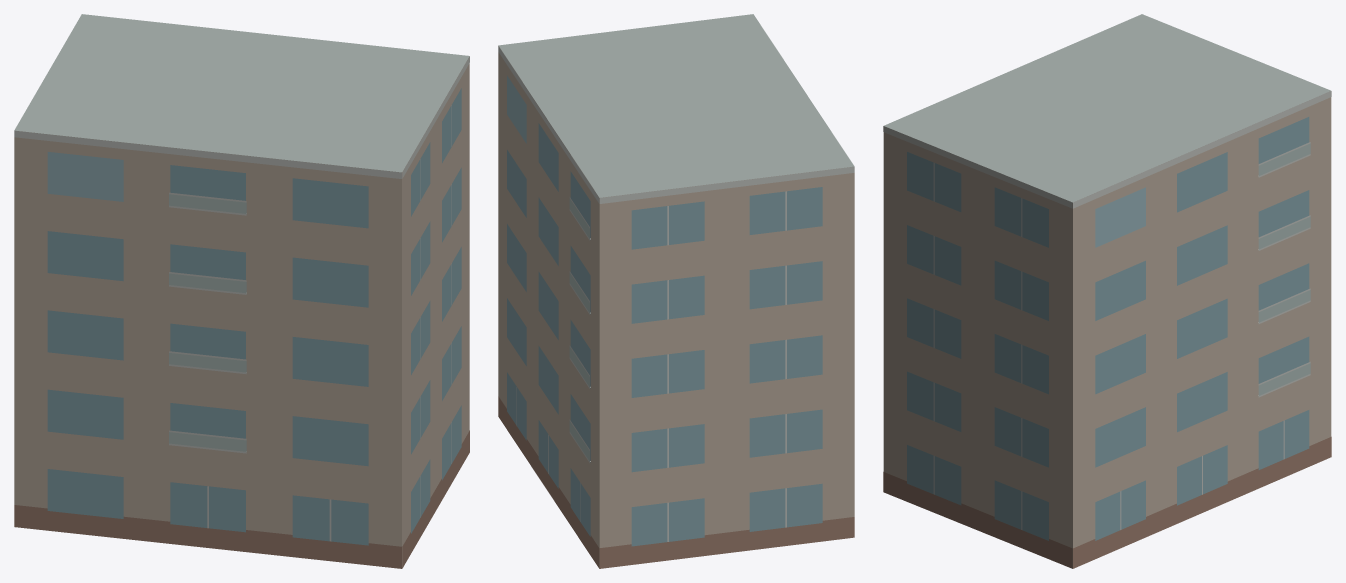
The model's file is survey-upis-32884204.glb.
The picture shows the model from 3 angles, left to right: view 1: azimuth 30°, elevation 25°; view 2: azimuth 150°, elevation 25°; view 3: azimuth 270°, elevation 25°; orthographic projection. The views are drawn at different scales.
Visible parts, largest first — view 1: survey-upis-32884204.tmp; view 2: survey-upis-32884204.tmp; view 3: survey-upis-32884204.tmp.
Part boxes in pixels (x1,y1,x2,y2): survey-upis-32884204.tmp: [14, 14, 469, 568]; survey-upis-32884204.tmp: [498, 14, 854, 568]; survey-upis-32884204.tmp: [883, 14, 1331, 568].
Bounding box in the file's own units: 15.9 × 14.4 × 15.97.
